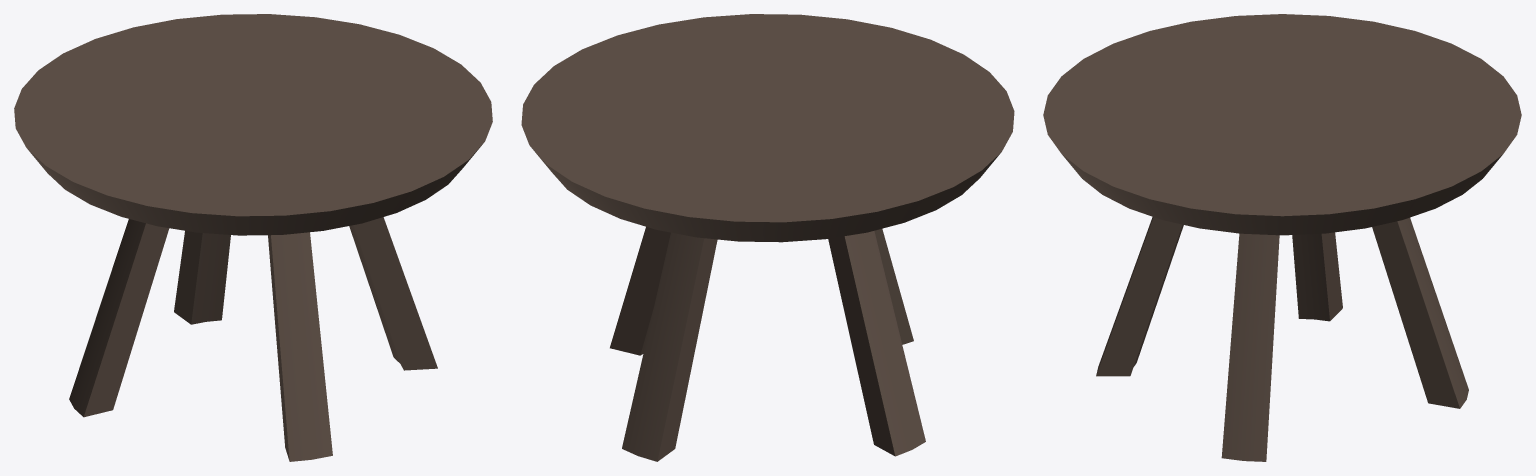
Rendered from TableRonde_19.fbx.
3 views of the same model, side by side, from view 1: azimuth 30°, elevation 25°; view 2: azimuth 150°, elevation 25°; view 3: azimuth 270°, elevation 25° (orthographic). The views are drawn at different scales.
Visible parts, largest first — view 1: pCylinder1776; view 2: pCylinder1776; view 3: pCylinder1776.
Boxes of the visible parts, x1,y1,x2,y2 form: pCylinder1776: (14,14,492,461); pCylinder1776: (521,14,1014,461); pCylinder1776: (1043,14,1521,461).
Bounding box in the file's own units: 44.11 × 27.26 × 44.11.
